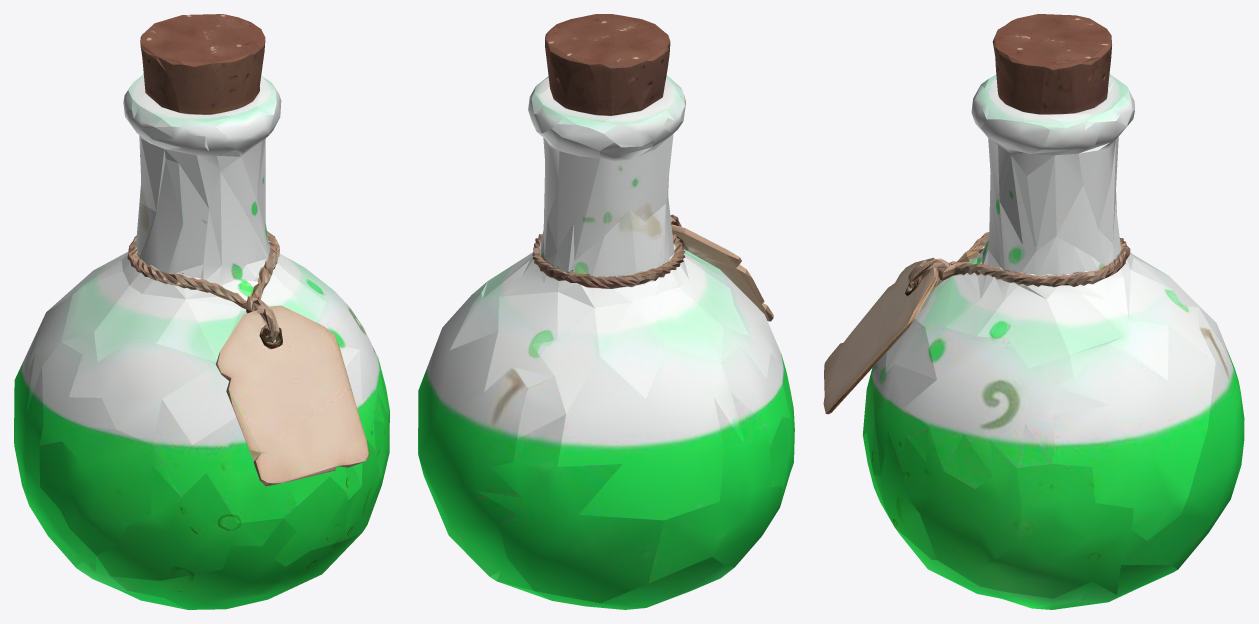
The model's file is prop-vial.glb.
3 views of the same model, side by side, from view 1: azimuth 30°, elevation 25°; view 2: azimuth 150°, elevation 25°; view 3: azimuth 270°, elevation 25° (orthographic).
Bounding box in the file's own units: 1.22 × 1.9 × 1.36.
Materials: 1 (1 with a texture image).
